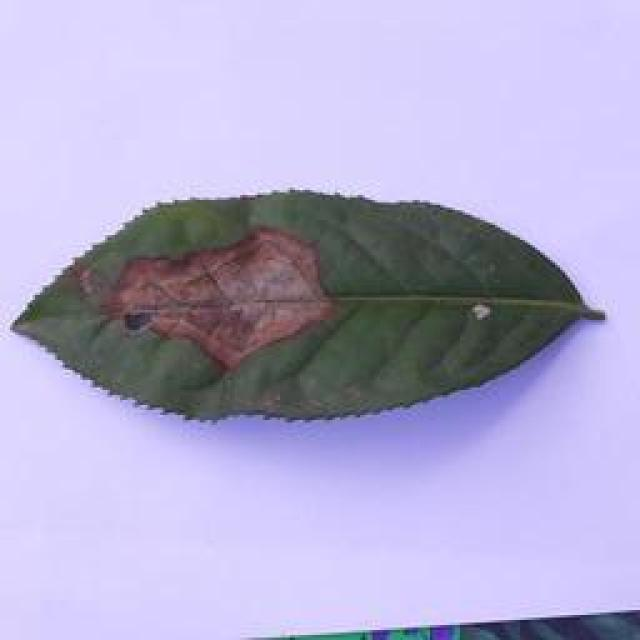Gray Blight: (6, 187, 613, 424)
